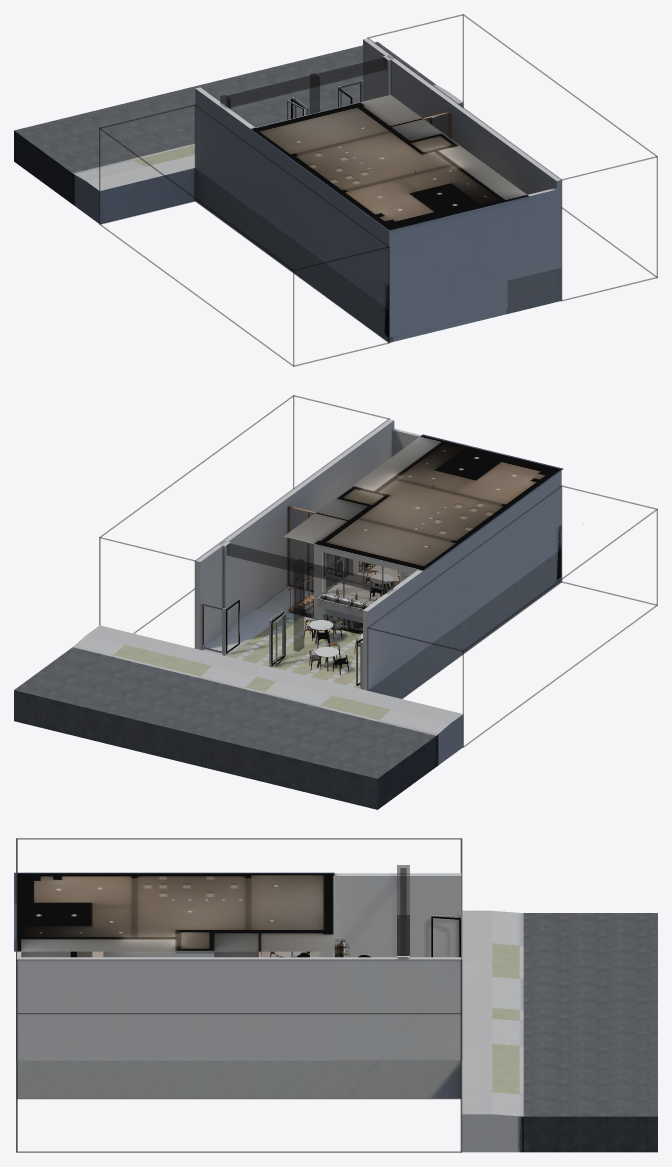
Rendered from cafe_misti.22c4cc62.glb.
The picture shows the model from 3 angles, top to bottom: view 1: azimuth 30°, elevation 25°; view 2: azimuth 150°, elevation 25°; view 3: azimuth 270°, elevation 25°; orthographic projection. The views are drawn at different scales.
Visible parts, largest first — view 1: cafe_misti_outside_0, cafe_misti_room_2, cafe_misti_room_0, Object_37; view 2: cafe_misti_outside_0, cafe_misti_room_2, cafe_misti_room_0, Object_37, Object_34, cafe_misti_room_1; view 3: cafe_misti_outside_0, cafe_misti_room_2, Object_37, cafe_misti_room_0.
Boxes of the visible parts, bbox=[...] form: cafe_misti_outside_0: bbox=[14, 38, 561, 342]; cafe_misti_room_2: bbox=[250, 95, 530, 231]; cafe_misti_room_0: bbox=[251, 130, 556, 337]; Object_37: bbox=[99, 14, 657, 366]; cafe_misti_outside_0: bbox=[14, 419, 583, 809]; cafe_misti_room_2: bbox=[283, 434, 563, 607]; cafe_misti_room_0: bbox=[314, 431, 561, 625]; Object_37: bbox=[99, 395, 657, 747]; Object_34: bbox=[289, 508, 399, 632]; cafe_misti_room_1: bbox=[288, 510, 399, 605]; cafe_misti_outside_0: bbox=[17, 873, 657, 1152]; cafe_misti_room_2: bbox=[14, 872, 335, 957]; Object_37: bbox=[16, 838, 462, 1152]; cafe_misti_room_0: bbox=[16, 951, 333, 959].
Size of the model in its own units: 19.65 by 6.28 by 26.21.
Materials: 13 (4 with a texture image).
